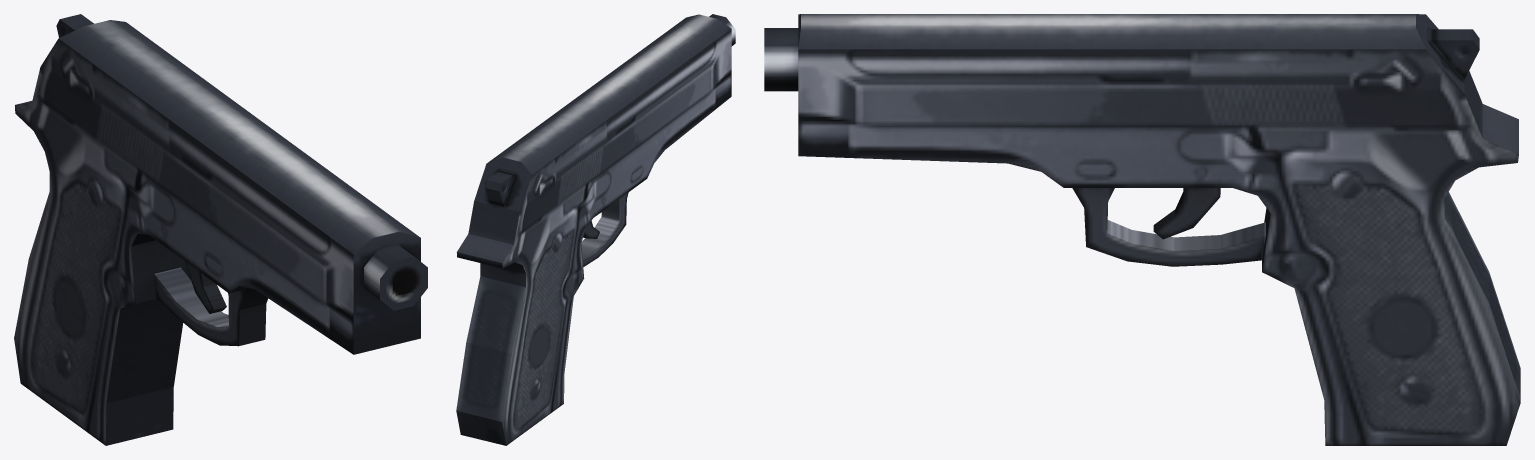
Rendered from Gun.FBX.
The picture shows the model from 3 angles, left to right: view 1: azimuth 30°, elevation 25°; view 2: azimuth 150°, elevation 25°; view 3: azimuth 270°, elevation 25°; orthographic projection. The views are drawn at different scales.
Parts seen in each view (by area): view 1: Gun; view 2: Gun; view 3: Gun.
Boxes of the visible parts, x1,y1,x2,y2 form: Gun: (14, 14, 427, 445); Gun: (456, 14, 735, 445); Gun: (764, 14, 1520, 445).
Bounding box in the file's own units: 1.8 × 9.76 × 16.42.
